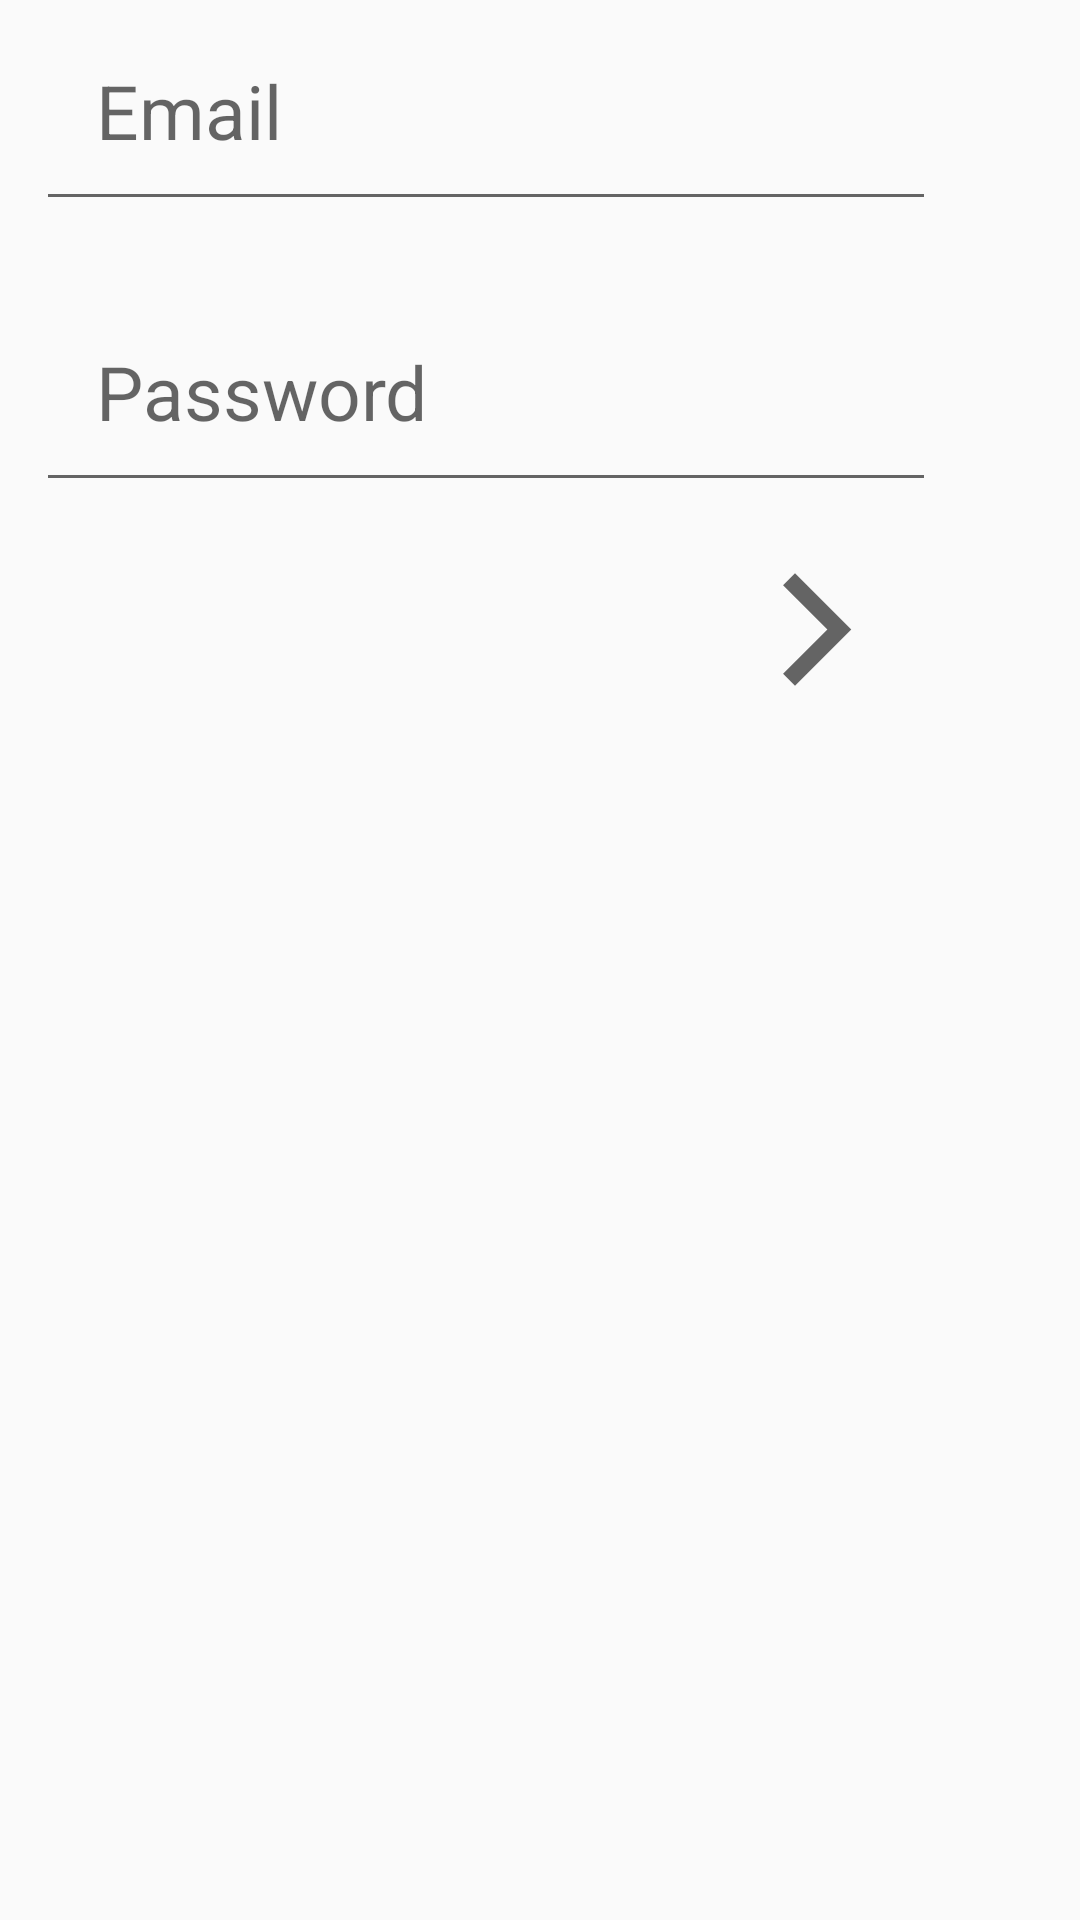

Screen size 1080w x 1920h. Icon name, then its box in pixels as (x1, y1, x2, y2):
submit: (783, 573, 851, 686)
